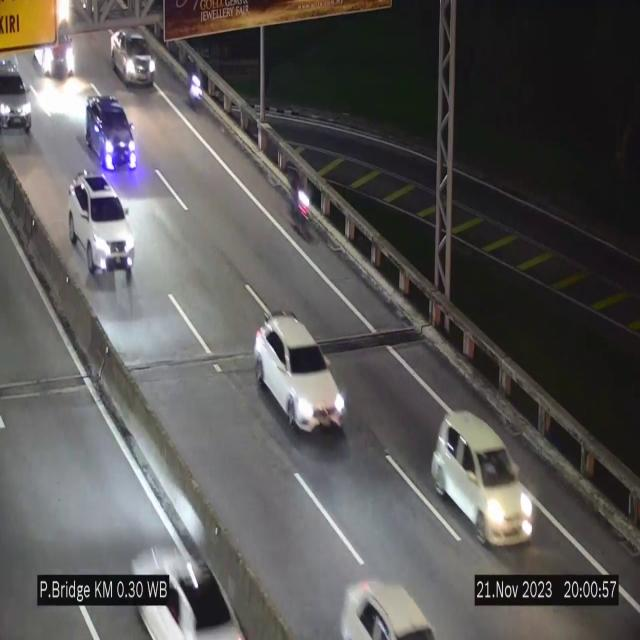Car: (129, 522, 249, 640), (431, 410, 533, 548), (254, 314, 346, 434), (336, 551, 434, 640), (68, 171, 136, 285), (0, 52, 40, 148), (33, 17, 89, 83), (86, 96, 134, 170), (110, 29, 154, 87)
Motorcycle: (285, 157, 314, 243), (182, 50, 203, 116)
